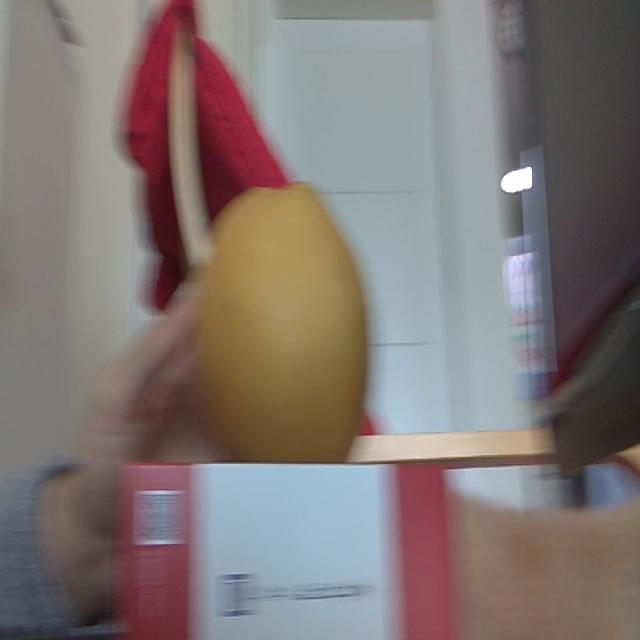pear: (190, 185, 370, 456), (363, 454, 365, 456)
